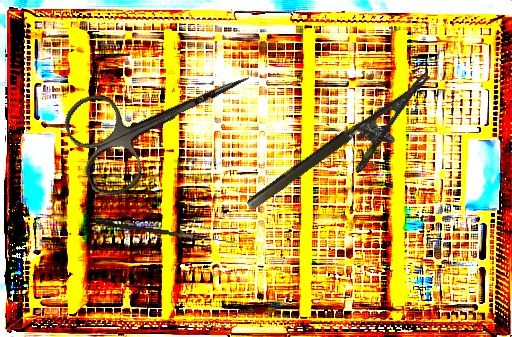Hook Surgical: (94, 218, 236, 244)
Iris Scissors: (57, 33, 271, 203)
Needle Holder: (244, 71, 452, 236)
